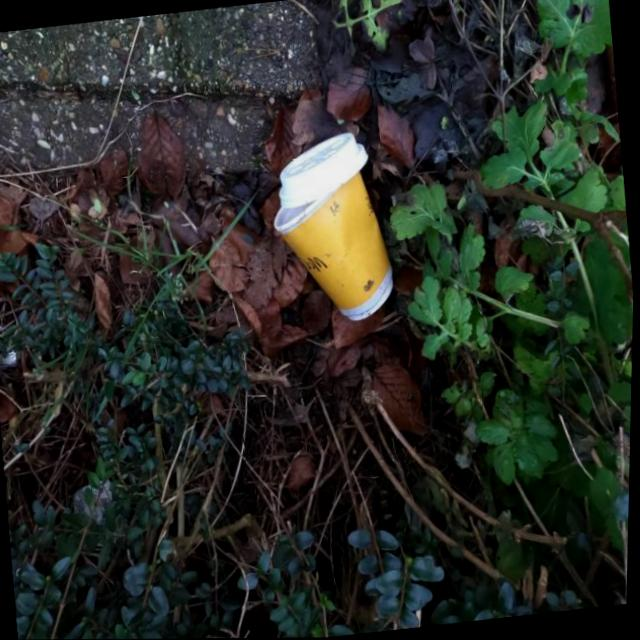Cup: (263, 127, 404, 333)
